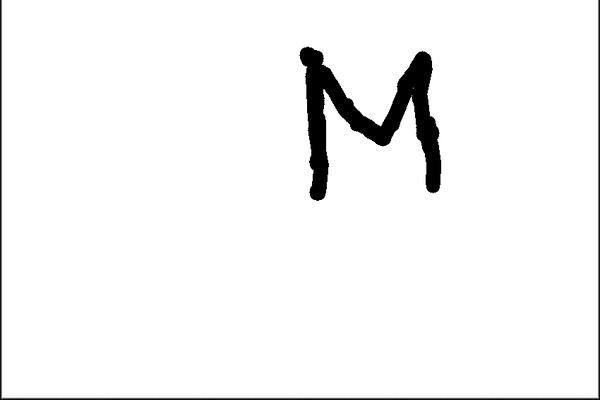M: (298, 40, 447, 199)
